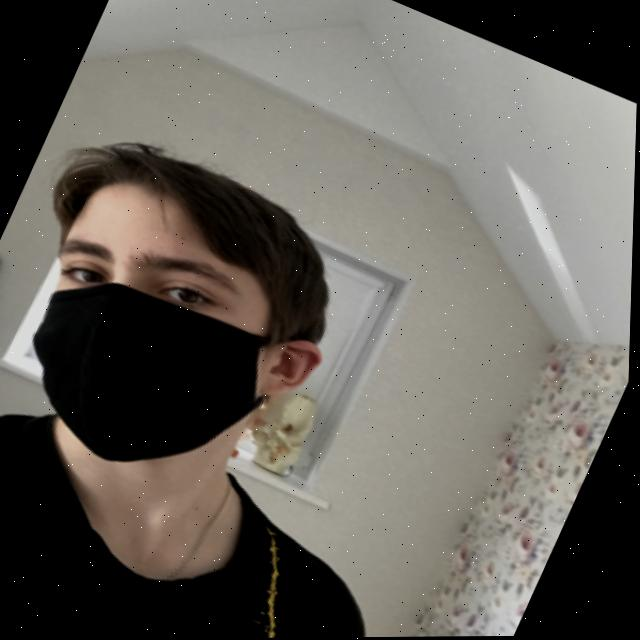Mask: (0, 237, 337, 526)
